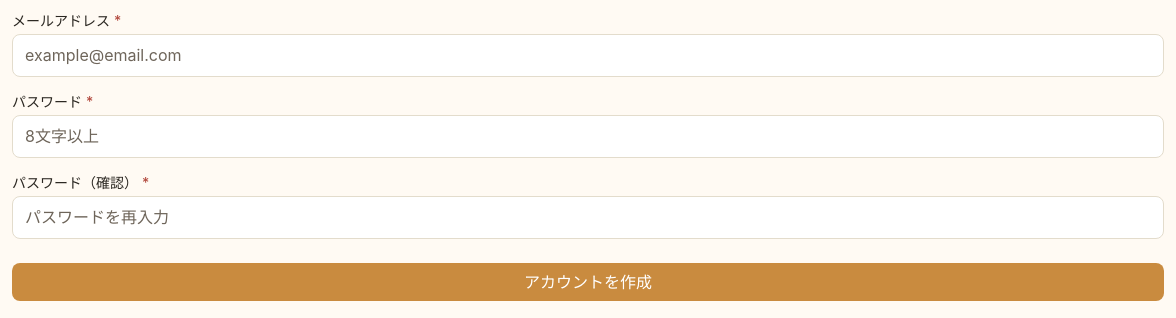
Test: SignupForm › 正常送信 › 成功時に EmailVerificationNotice が表示される（メールアドレスのテキストが表示される）
Type "test@example.com" into the field labelled "メールアドレス*" at x=588, y=55, box [13,34,1163,76]
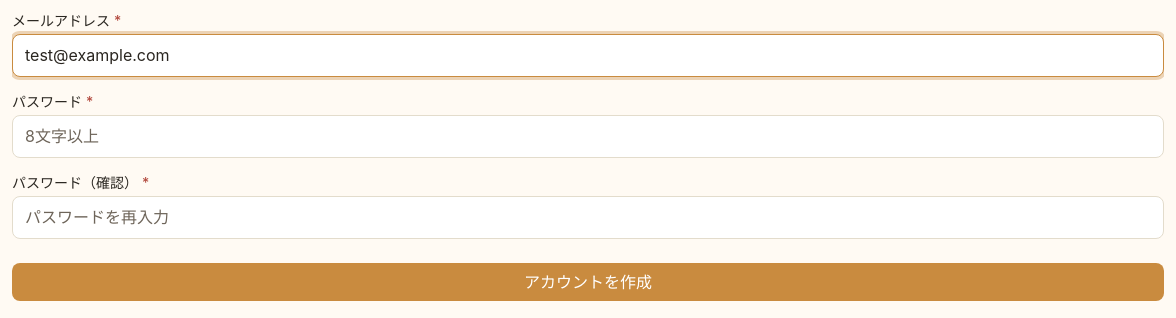
Type "password123" into the password field named "password" at x=588, y=136, box [13,116,1163,157]
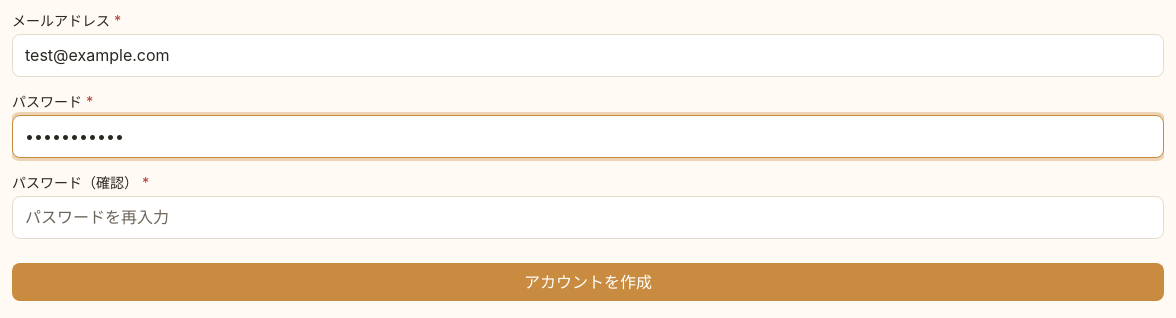
Type "password123" into the password field labelled "パスワード（確認）*" at x=588, y=218, box [13,197,1163,238]
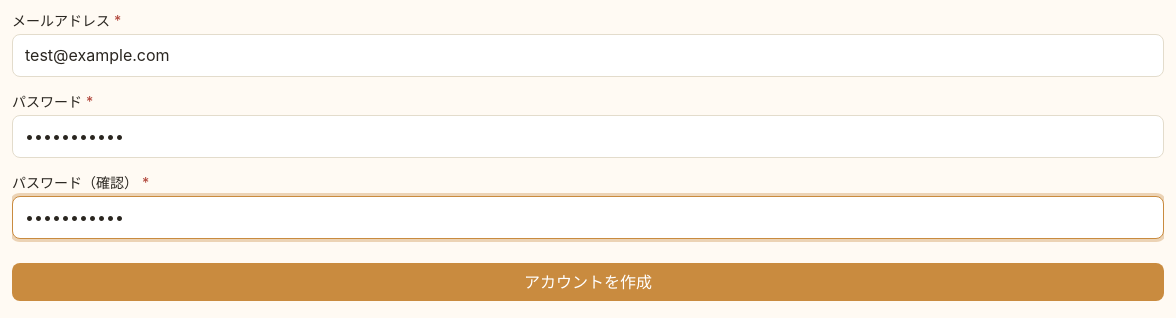
Click the button "アカウントを作成" at x=588, y=282, box [12,263,1164,301]
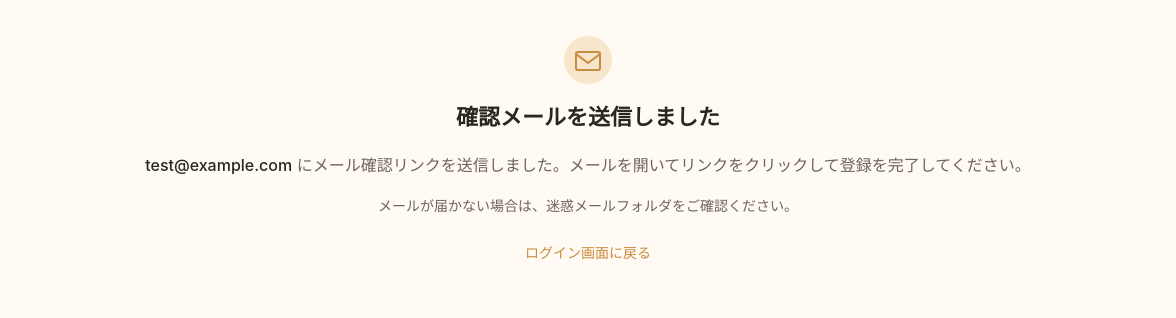
Expected: the text "test@example.com" is shown, [145,155,292,175]
Expected: the button "アカウントを作成" is gone
